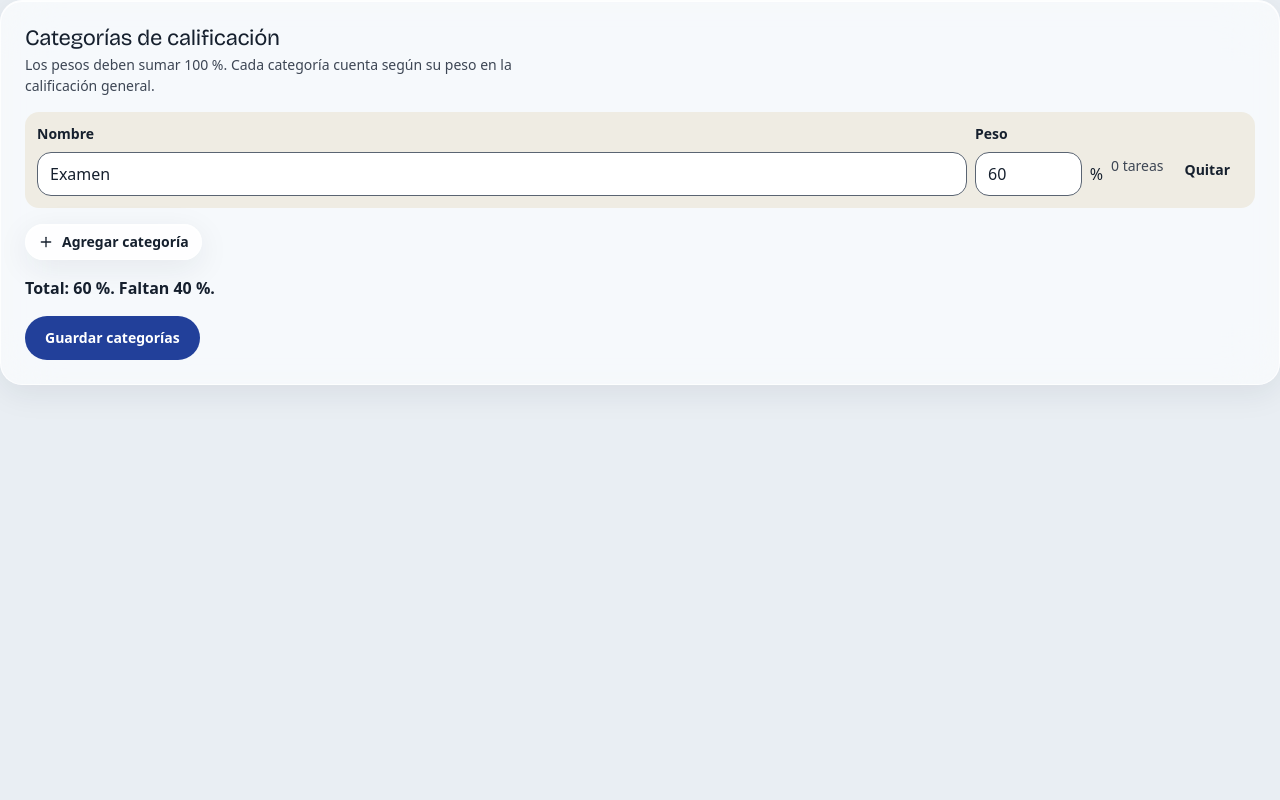
Test: CategoriasView (PR-1E03) › PR-1E03 · guardar valida con el esquema de shared/: con 99 % o un nombre vacío no envía nada y cada error queda en su lugar
The width and height of the screenshot is (1280, 800).
Expected: the field showing "Examen" is shown, left=37, top=152, right=967, bottom=196
Click the button "Agregar categoría" at [113, 242], box left=25, top=224, right=202, bottom=260
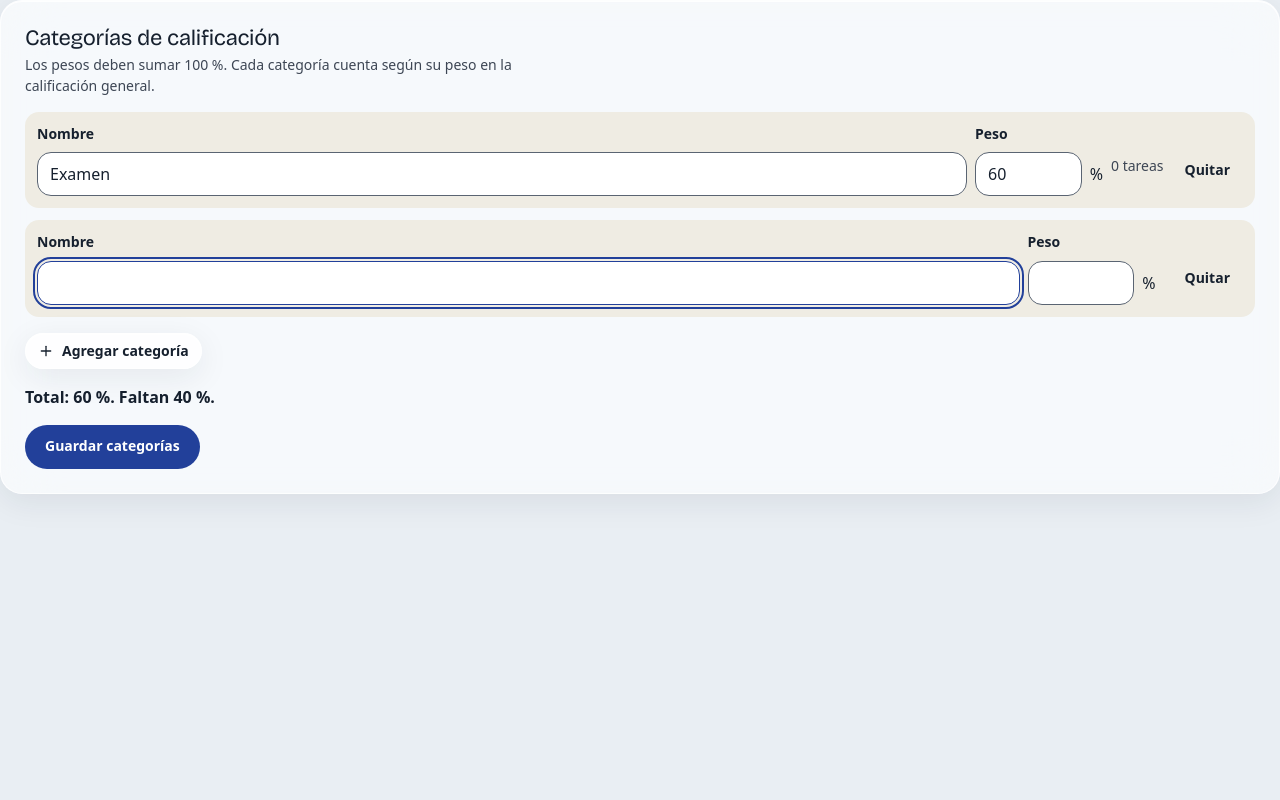
Type "39" into the 2nd field labelled "Peso" at [1081, 283], box left=1028, top=261, right=1134, bottom=305
Click the button "Guardar categorías" at [112, 447], box left=25, top=425, right=200, bottom=469
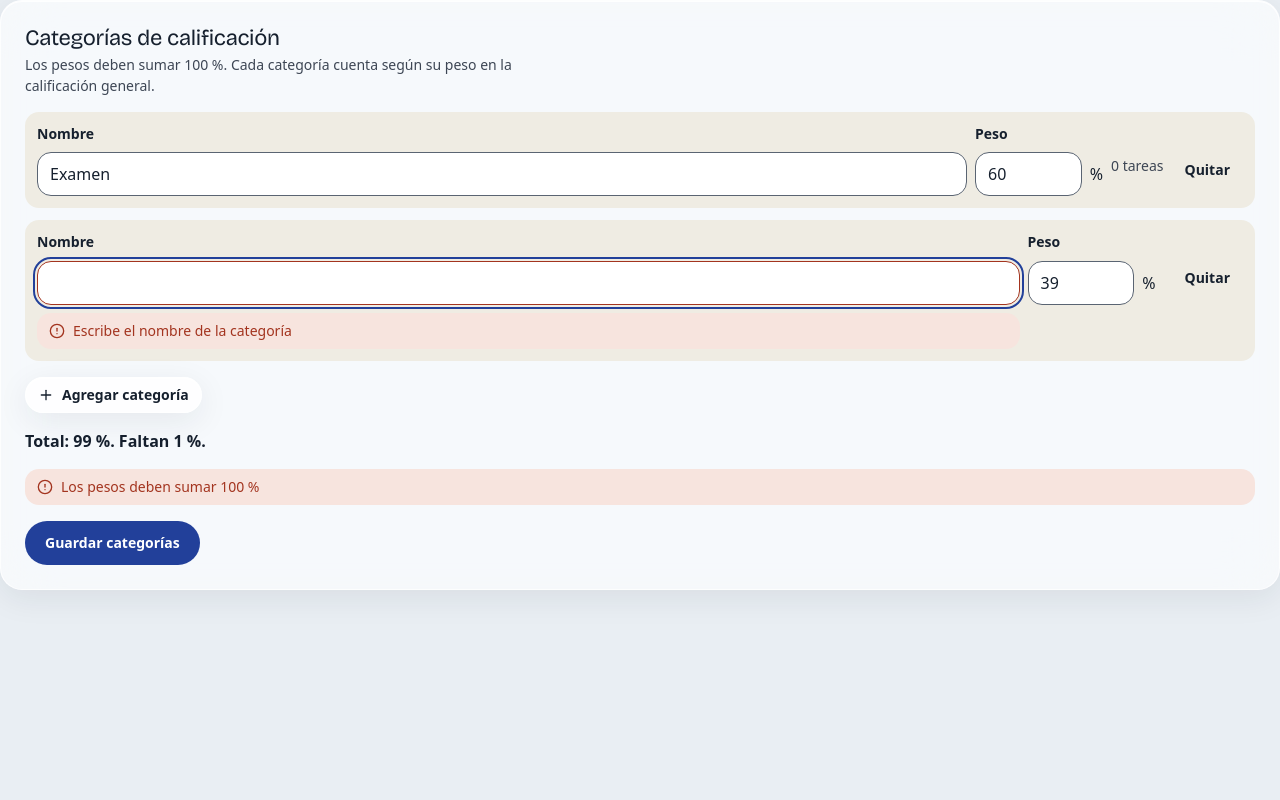
Expected: the text "Escribe el nombre de la categoría" is shown, left=37, top=313, right=1020, bottom=349
Type "Proyecto" into the 2nd field labelled "Nombre" at [528, 283], box left=37, top=261, right=1020, bottom=305
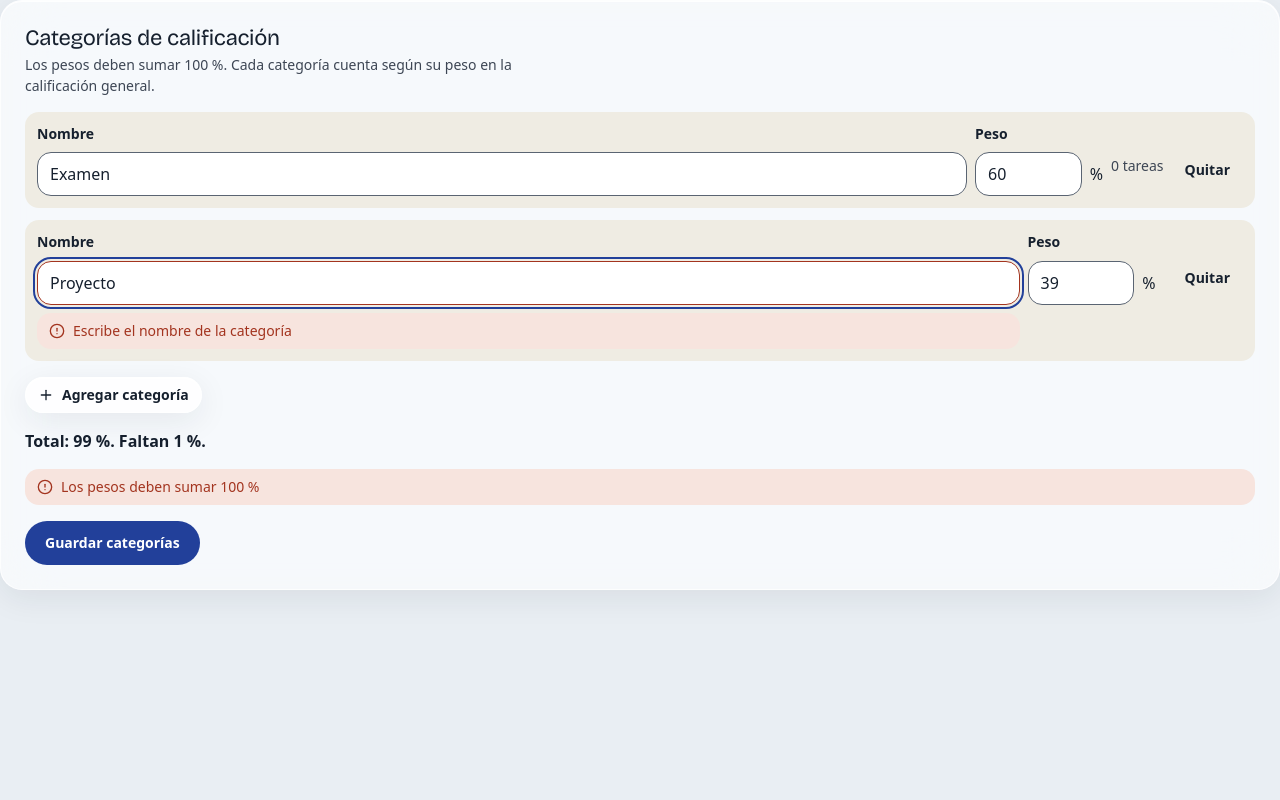
Click the button "Guardar categorías" at [112, 543], box left=25, top=521, right=200, bottom=565
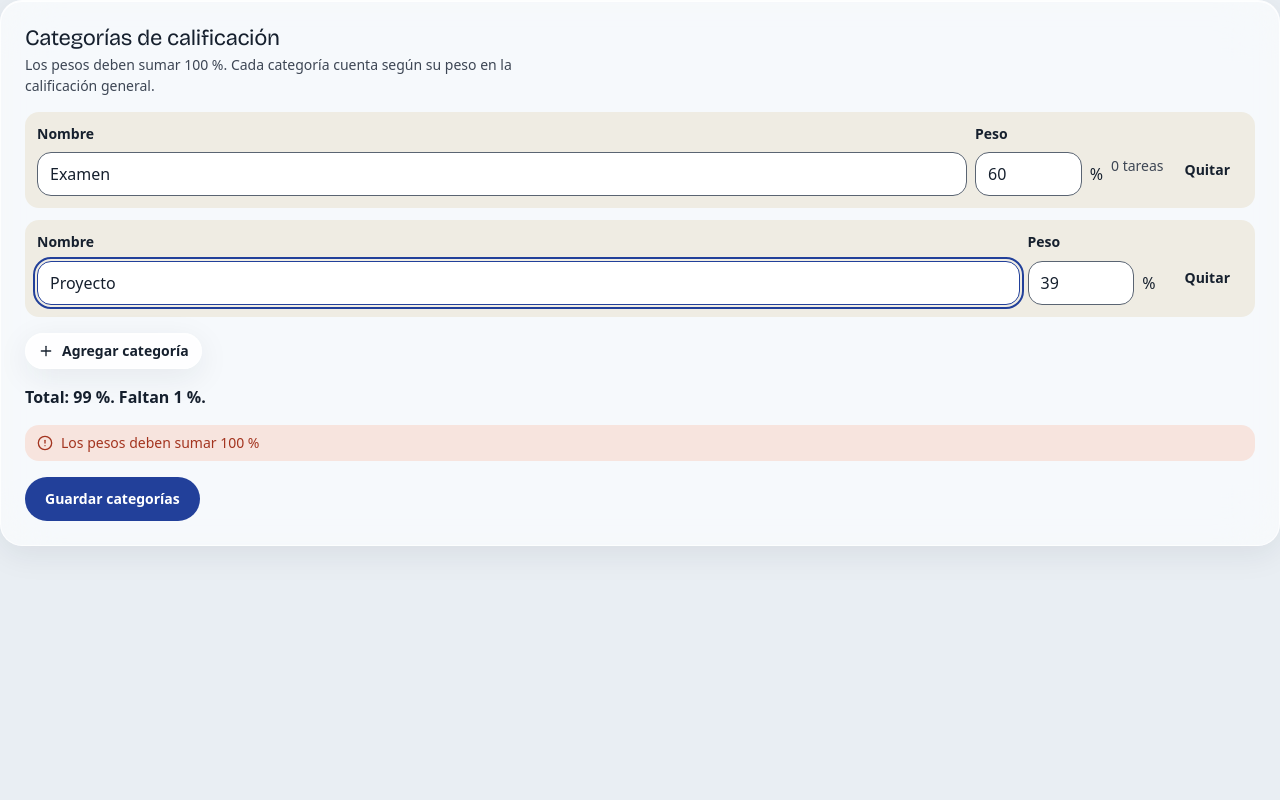
Expected: the text "Los pesos deben sumar 100 %" is shown, left=25, top=425, right=1255, bottom=461
Expected: the message reads "Total: 99 %. Faltan 1 %.", left=25, top=386, right=206, bottom=408
Replace the text in the 2nd field labelled "Peso" with "4x" at [1081, 283], box left=1028, top=261, right=1134, bottom=305
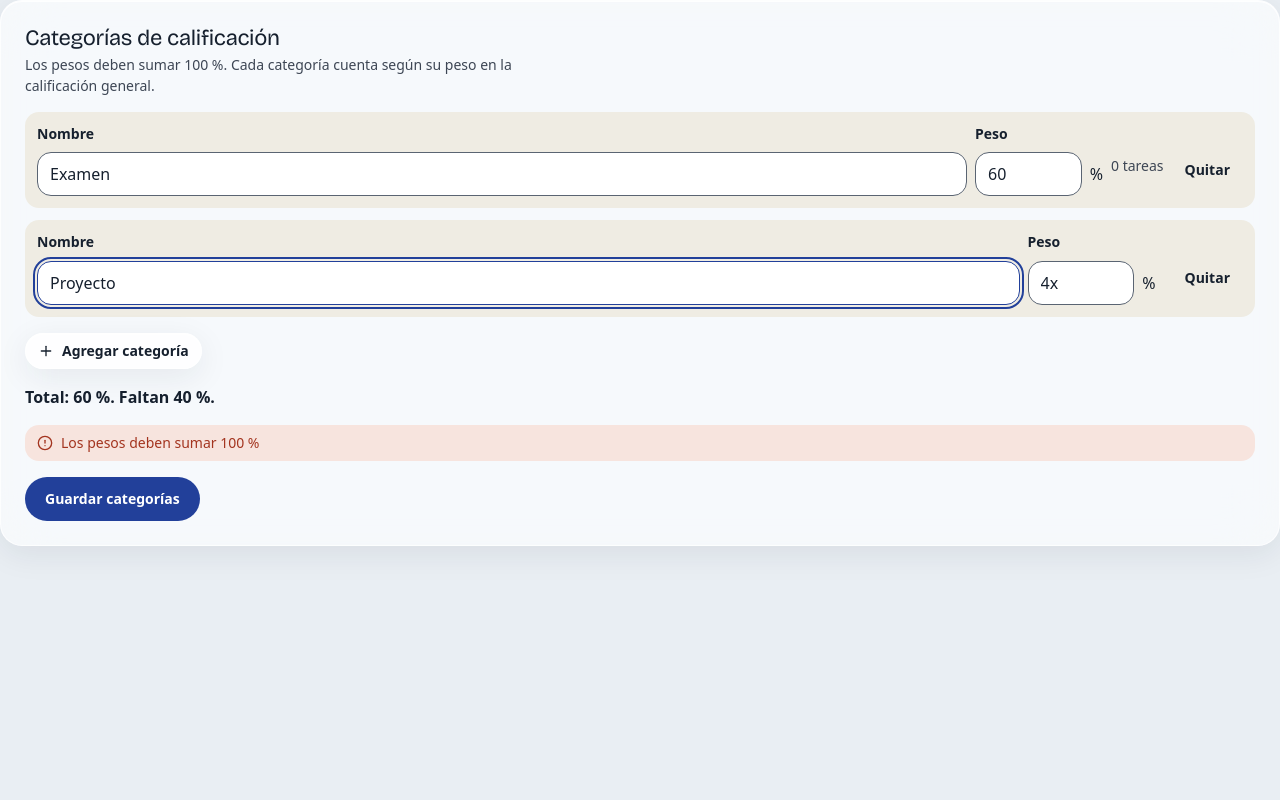
Click the button "Guardar categorías" at [112, 499], box left=25, top=477, right=200, bottom=521
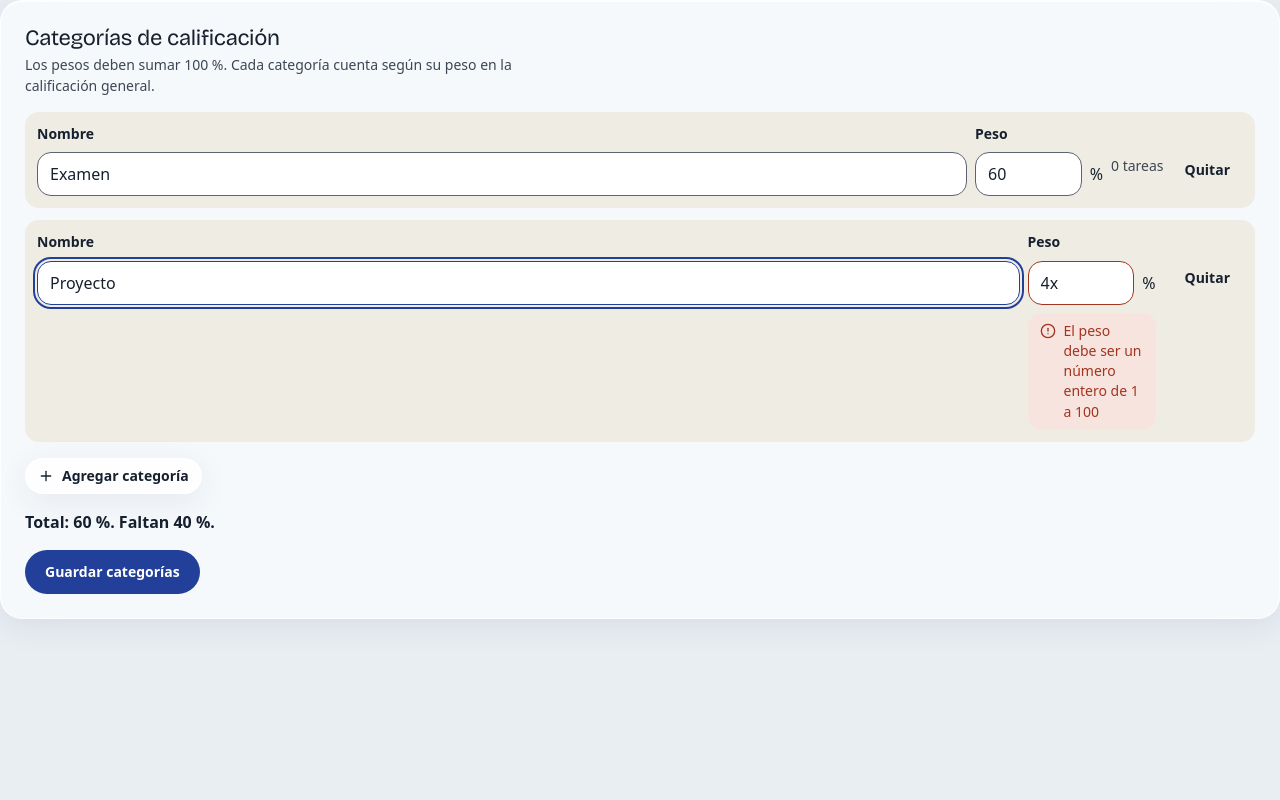
Expected: the text "El peso debe ser un número entero de 1 a 100" is shown, left=1028, top=313, right=1156, bottom=430
